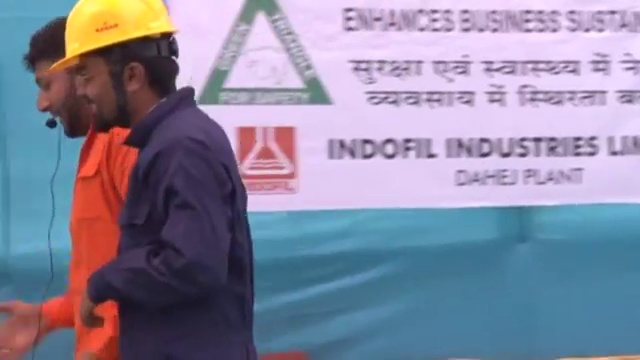helmet: (45, 1, 180, 74)
helmet_off: (28, 16, 90, 141)
helmet_on: (46, 1, 184, 123)
person: (46, 2, 258, 360), (1, 14, 136, 360)
